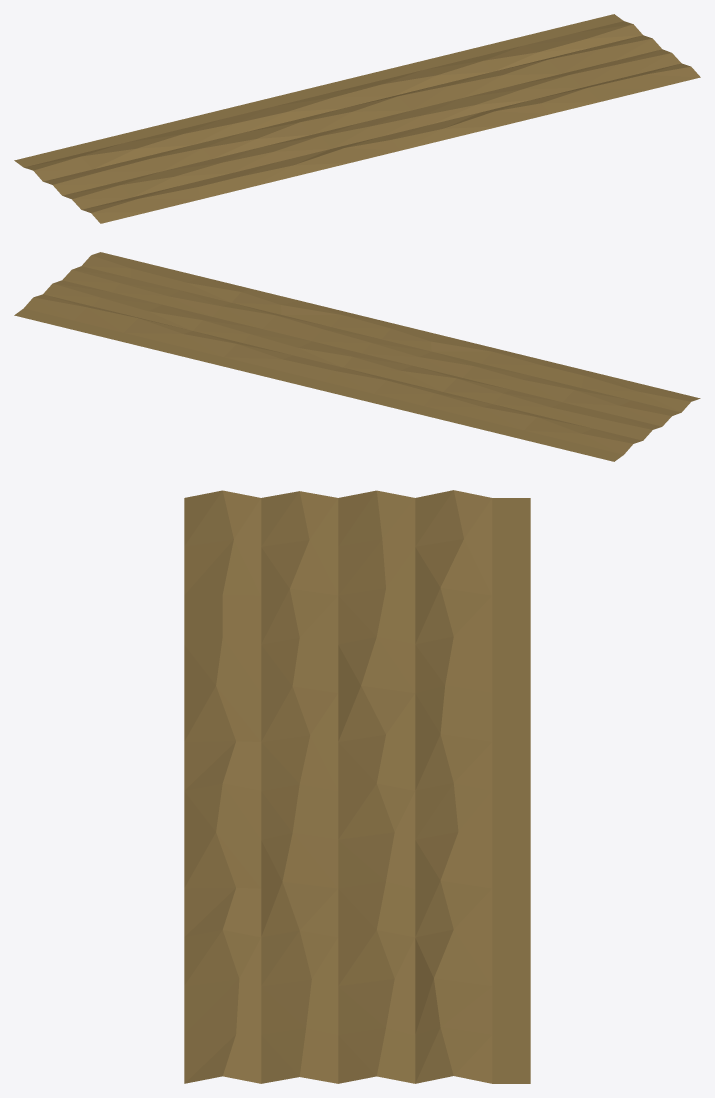
Rendered from groundlayer4.dae.
3 views of the same model, one above another, from view 1: azimuth 30°, elevation 25°; view 2: azimuth 150°, elevation 25°; view 3: azimuth 270°, elevation 25° (orthographic). The views are drawn at different scales.
Parts seen in each view (by area): view 1: Plane.005, Plane.006, Plane.007, Plane.004; view 2: Plane.005, Plane.004, Plane.006, Plane.007; view 3: Plane.006, Plane.007, Plane.004, Plane.005.
Boxes of the visible parts, left/top/right/bottom form: Plane.005: left=164, top=87, right=400, bottom=186; Plane.006: left=314, top=51, right=550, bottom=150; Plane.007: left=464, top=14, right=700, bottom=113; Plane.004: left=14, top=124, right=250, bottom=223; Plane.005: left=314, top=325, right=550, bottom=424; Plane.004: left=464, top=362, right=700, bottom=461; Plane.006: left=164, top=288, right=400, bottom=388; Plane.007: left=14, top=252, right=249, bottom=351; Plane.006: left=184, top=783, right=530, bottom=937; Plane.007: left=184, top=929, right=530, bottom=1083; Plane.004: left=184, top=490, right=530, bottom=644; Plane.005: left=184, top=636, right=530, bottom=790.
Size of the model in its own units: 8 by 2 by 0.0502.
